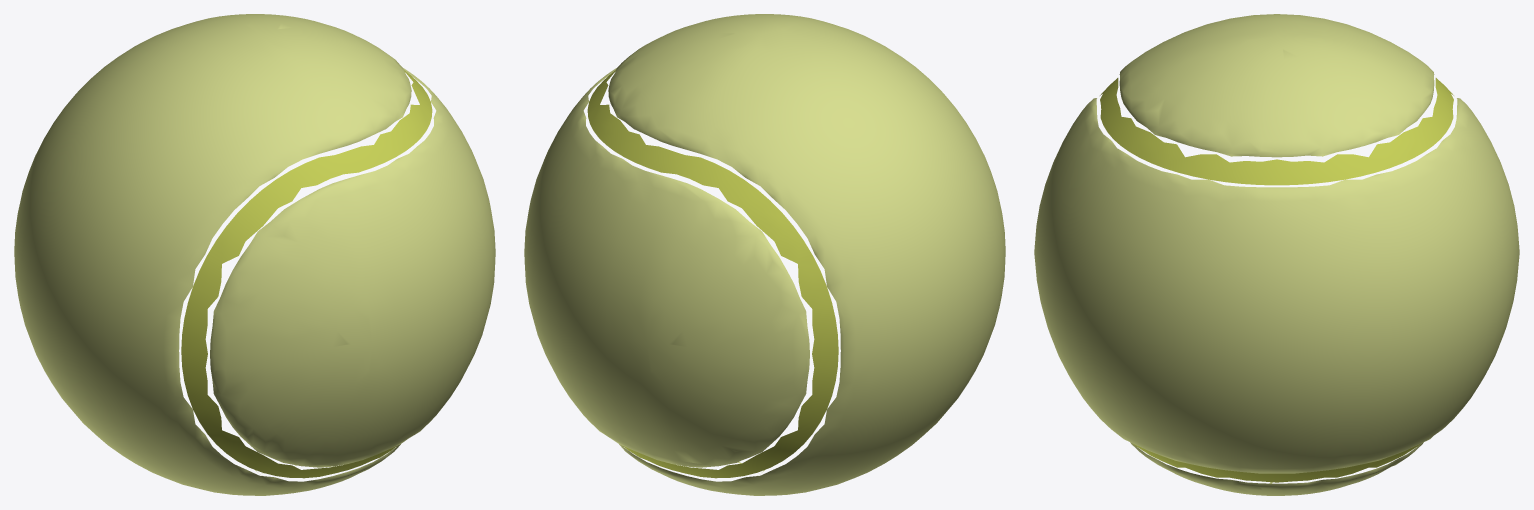
File: tennis_ball.glb
The picture shows the model from 3 angles, left to right: view 1: azimuth 30°, elevation 25°; view 2: azimuth 150°, elevation 25°; view 3: azimuth 270°, elevation 25°; orthographic projection.
Visible parts, largest first — view 1: world; view 2: world; view 3: world.
Boxes of the visible parts, left/top/right/bottom form: world: left=14, top=14, right=495, bottom=495; world: left=524, top=14, right=1005, bottom=495; world: left=1034, top=14, right=1519, bottom=495.
Bounding box in the file's own units: 1.97 × 1.99 × 1.99.
